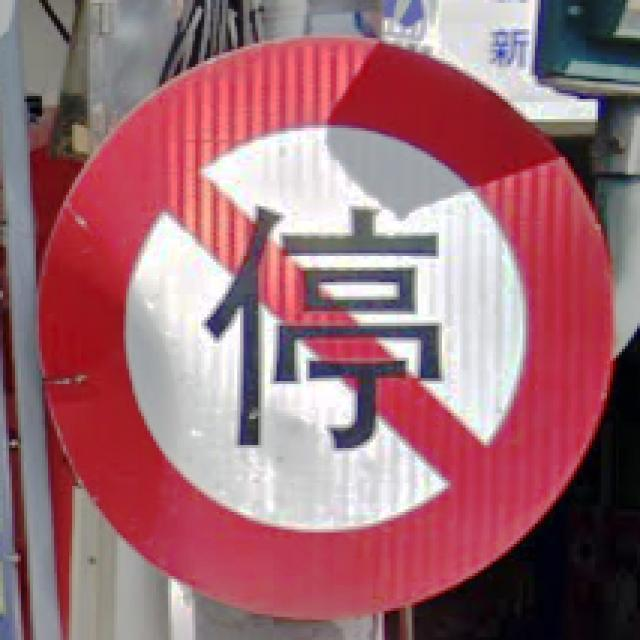nopark: (33, 32, 619, 617)
